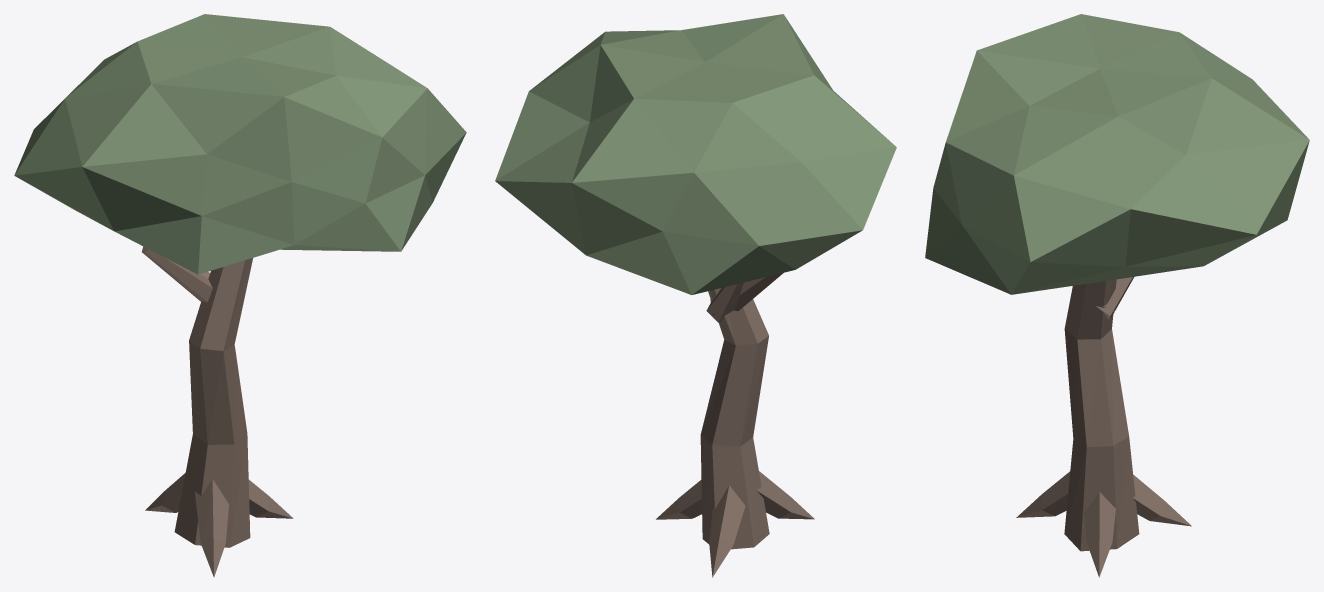
The model's file is Tree_Leafy_B.glb.
The picture shows the model from 3 angles, left to right: view 1: azimuth 30°, elevation 25°; view 2: azimuth 150°, elevation 25°; view 3: azimuth 270°, elevation 25°; orthographic projection. The views are drawn at different scales.
Parts seen in each view (by area): view 1: Foliage, Trunk; view 2: Foliage, Trunk; view 3: Foliage, Trunk.
Boxes of the visible parts, x1,y1,x2,y2 form: Foliage: (14,14,466,274); Trunk: (142,246,293,577); Foliage: (495,14,896,294); Trunk: (656,272,814,577); Foliage: (925,14,1309,294); Trunk: (1016,276,1191,577).
Size of the model in its own units: 12.51 by 15.03 by 10.64.
